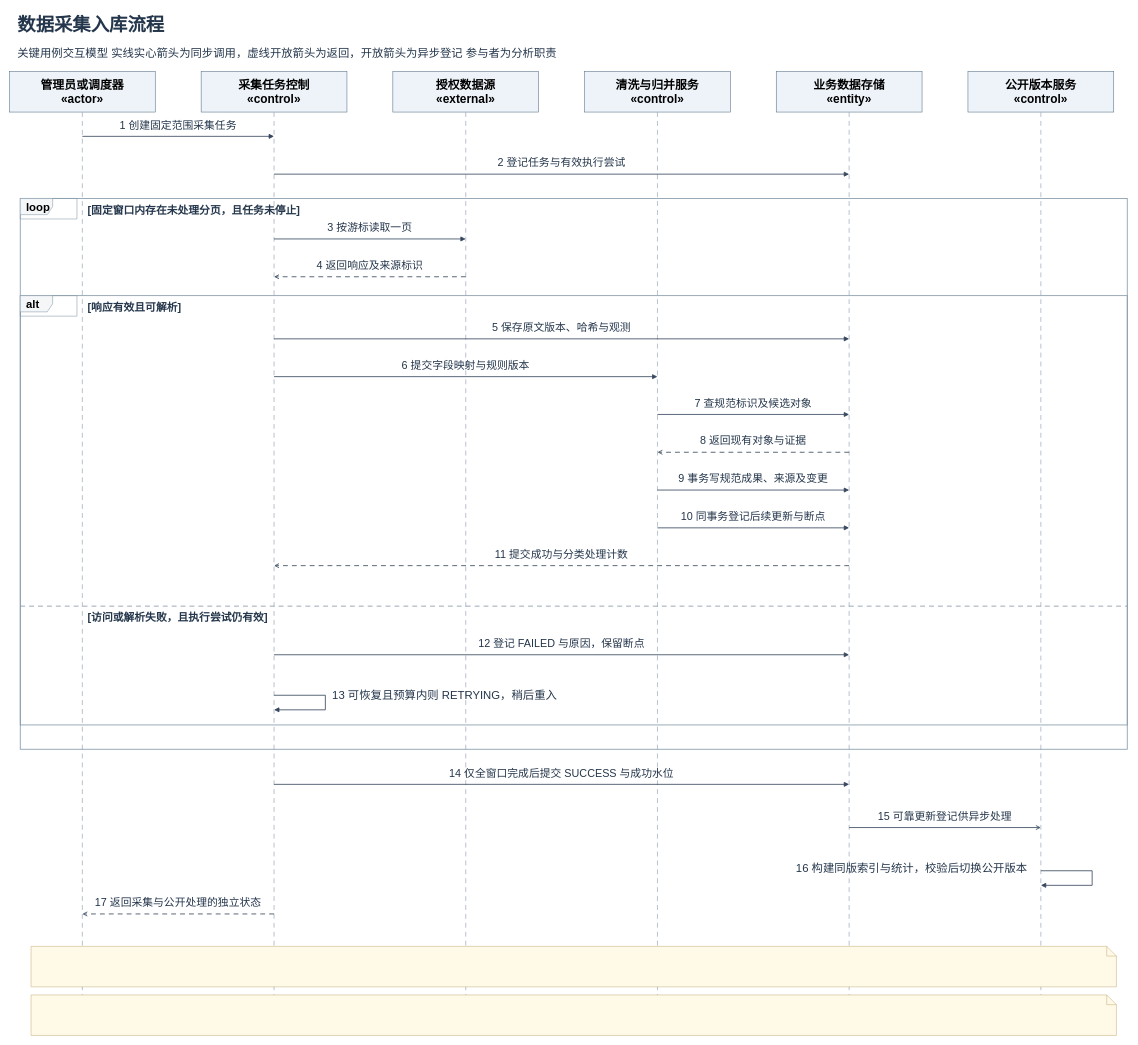
Image size: 1138x1045. Some labels were removed from this diagram. Each missing label, with the centre of its shape:
"事务边界：步骤 9、10 同次提交，先验证执行尝试及停止请求，提交后才更新分页断点。失败退出当前扫描，进入重试或终止；失败路径不得执行步骤 14。" belongs at [573,966].
"停止分支：安全边界确认 STOPPED，不推进水位；失效执行尝试拒绝写入与成功回调。发布失败保留原公开版本及待处理记录，独立重试。" belongs at [573,1014].
